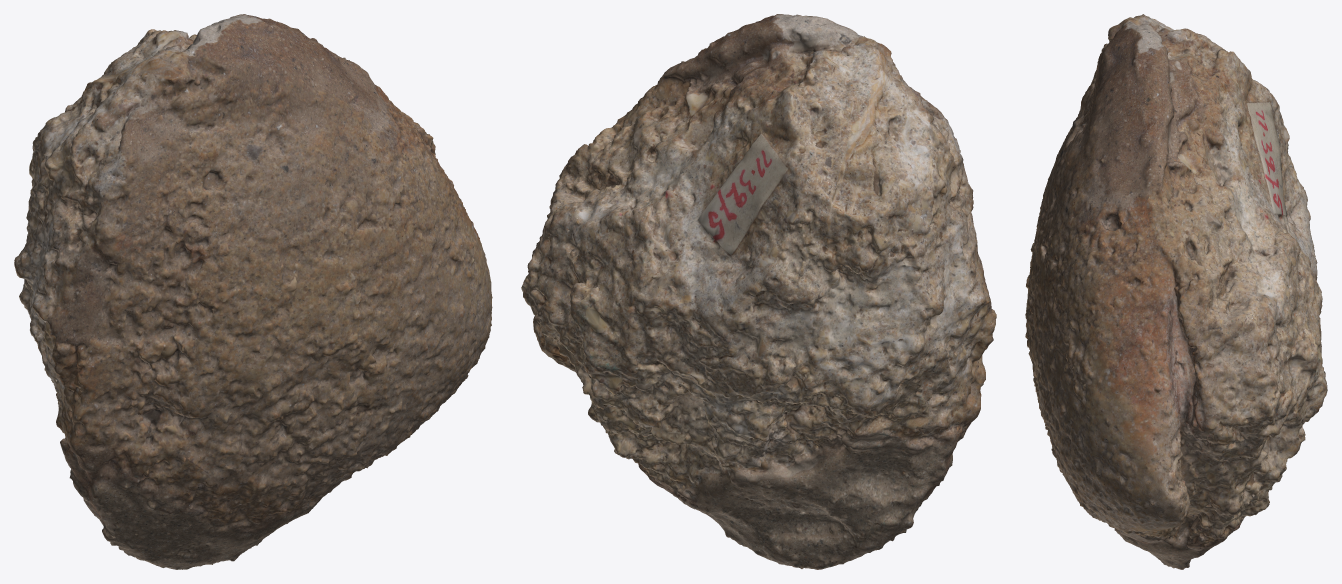
File: EWS0014135.glb
3 views of the same model, side by side, from view 1: azimuth 30°, elevation 25°; view 2: azimuth 150°, elevation 25°; view 3: azimuth 270°, elevation 25° (orthographic). The views are drawn at different scales.
Parts seen in each view (by area): view 1: EWS0014135.001; view 2: EWS0014135.001; view 3: EWS0014135.001.
Part boxes in pixels (x1,y1,x2,y2): EWS0014135.001: (14,14,492,569); EWS0014135.001: (521,14,996,569); EWS0014135.001: (1025,14,1327,569).
Bounding box in the file's own units: 0.0568 × 0.0661 × 0.0344.
1 material, 1 textured.
